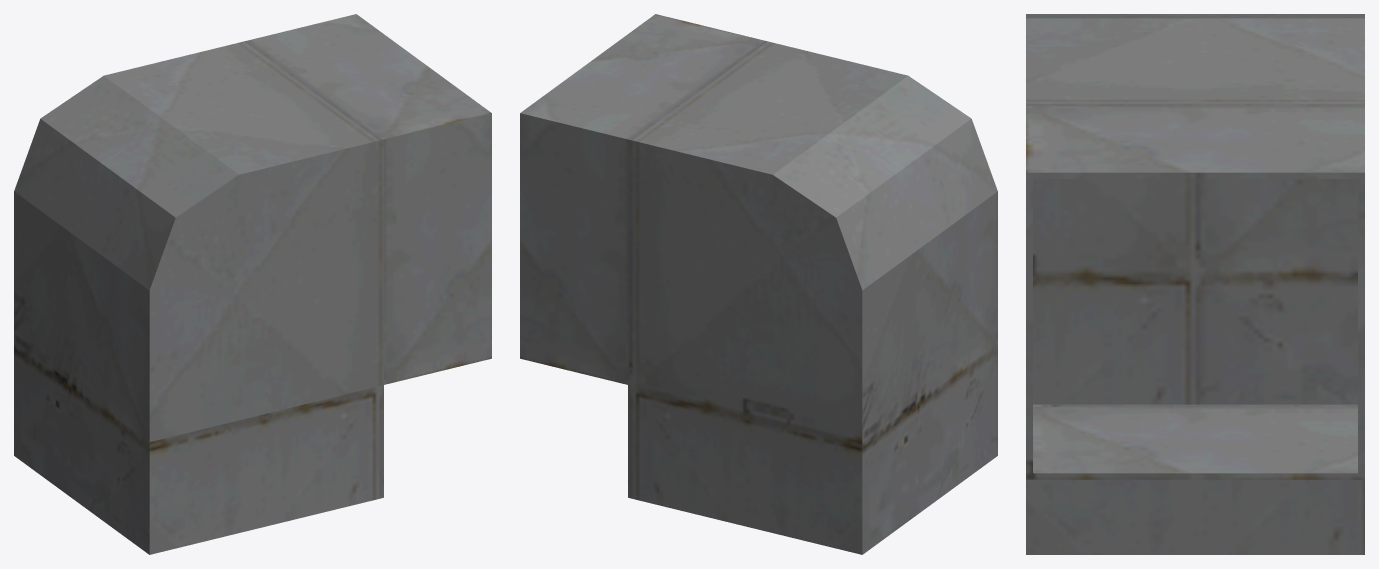
Rendered from Urban_DuctCornerRounded_Model.fbx.
3 views of the same model, side by side, from view 1: azimuth 30°, elevation 25°; view 2: azimuth 150°, elevation 25°; view 3: azimuth 270°, elevation 25° (orthographic). The views are drawn at different scales.
Visible parts, largest first — view 1: Urban_DuctCornerRounded_Mesh; view 2: Urban_DuctCornerRounded_Mesh; view 3: Urban_DuctCornerRounded_Mesh.
Boxes of the visible parts, x1,y1,x2,y2 form: Urban_DuctCornerRounded_Mesh: (14,14,491,554); Urban_DuctCornerRounded_Mesh: (520,14,997,554); Urban_DuctCornerRounded_Mesh: (1026,14,1364,554).
Bounding box in the file's own units: 1.52 × 1.52 × 1.04.
